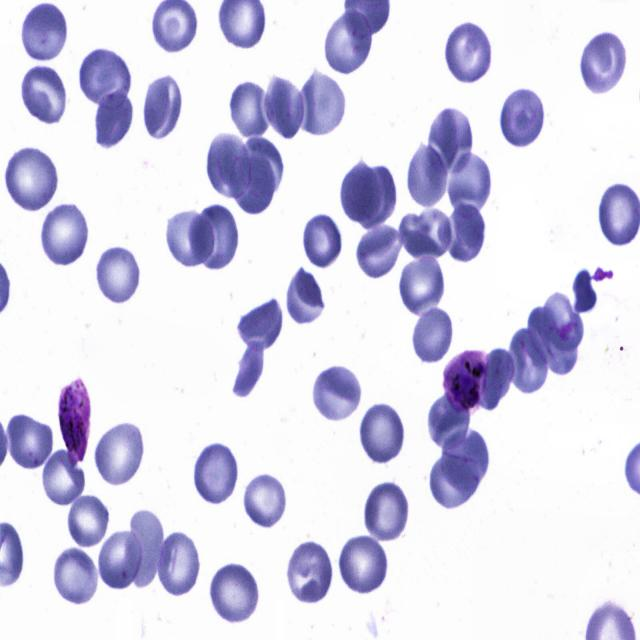gametocyte: (58, 378, 92, 467)
red blood cell: (526, 306, 579, 375), (4, 148, 58, 214), (297, 68, 347, 139), (93, 421, 146, 487), (40, 200, 92, 267), (208, 561, 261, 625), (322, 9, 373, 74), (80, 48, 133, 110), (347, 166, 398, 230), (189, 203, 238, 269), (337, 533, 390, 594), (6, 409, 56, 473), (362, 479, 412, 543), (582, 27, 628, 96), (429, 445, 481, 506), (287, 538, 334, 605), (444, 19, 493, 82), (427, 106, 473, 173), (441, 430, 490, 492), (192, 443, 240, 506), (50, 546, 100, 606), (95, 243, 143, 305), (157, 530, 202, 596), (361, 400, 406, 466), (500, 85, 547, 148), (228, 77, 275, 140), (19, 63, 67, 124), (227, 152, 275, 213), (20, 5, 71, 62), (507, 328, 549, 397), (128, 505, 162, 590), (207, 132, 250, 198), (339, 161, 384, 224), (401, 208, 453, 262), (355, 223, 405, 279), (312, 366, 362, 422), (446, 151, 491, 213), (263, 74, 305, 140), (399, 255, 445, 315), (405, 142, 448, 206), (441, 202, 485, 264), (166, 211, 214, 267), (144, 72, 184, 138), (40, 450, 84, 510), (236, 297, 283, 353), (241, 137, 284, 198), (98, 530, 143, 588), (411, 305, 454, 365), (65, 492, 112, 546), (94, 89, 136, 149), (542, 293, 584, 352), (243, 473, 287, 529), (427, 395, 471, 449), (284, 268, 324, 325), (303, 214, 343, 270), (479, 348, 514, 410)
trophozoite: (443, 350, 490, 413)
